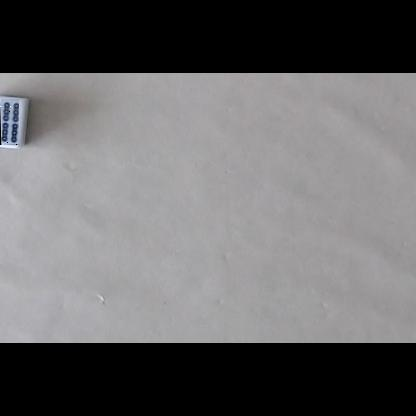6s: (0, 99, 19, 145)
